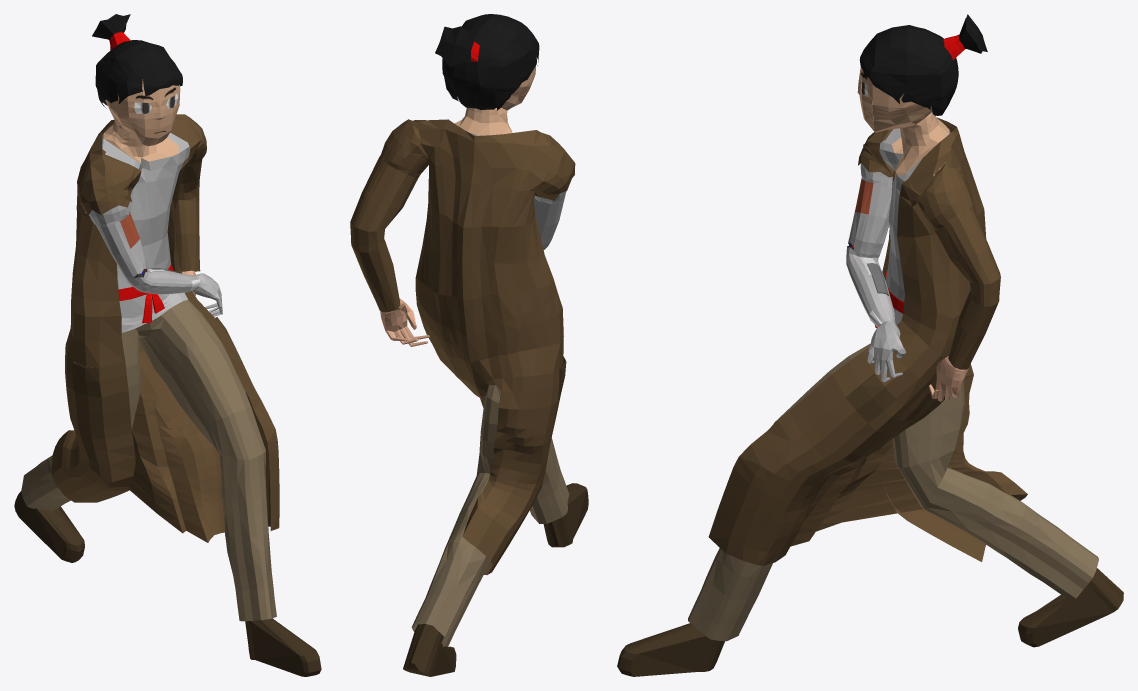
File: One_RB_000010.obj
3 renders of one model, left to right at view 1: azimuth 30°, elevation 25°; view 2: azimuth 150°, elevation 25°; view 3: azimuth 270°, elevation 25°, orthographic. The views are drawn at different scales.
Parts seen in each view (by area): view 1: Hair_Cube.004; view 2: Hair_Cube.004; view 3: Hair_Cube.004.
Part boxes in pixels (x1,y1,x2,y2): Hair_Cube.004: (14, 14, 321, 676); Hair_Cube.004: (350, 14, 588, 676); Hair_Cube.004: (617, 14, 1123, 676).
Size of the model in its own units: 1.06 by 3.59 by 2.6.
